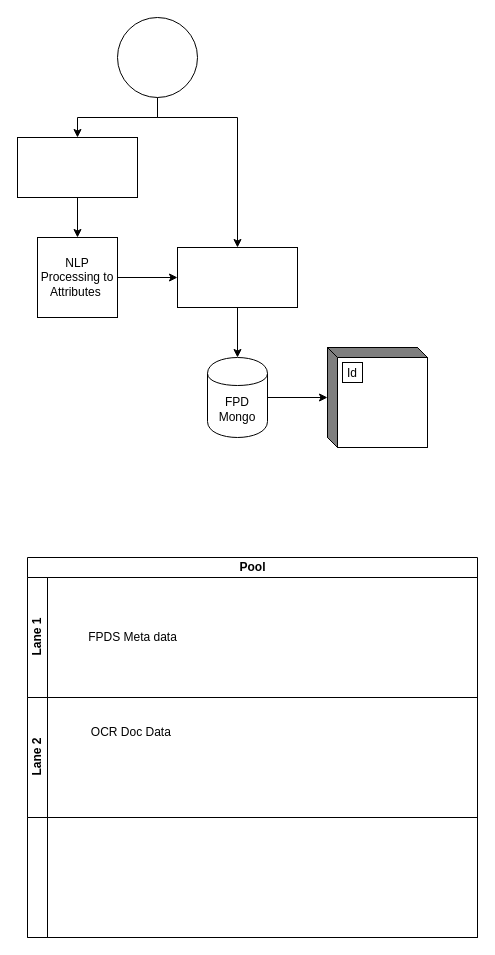
Image size: 495x955. Some labels were removed from this diagram. Here are the shapes that lost their labels. From the top down, the centre of each, then its label:
At [77,167]: "LLM Prompt".
At [237,277]: "Search by Attribute".
At [252,877]: "Lane 3".
